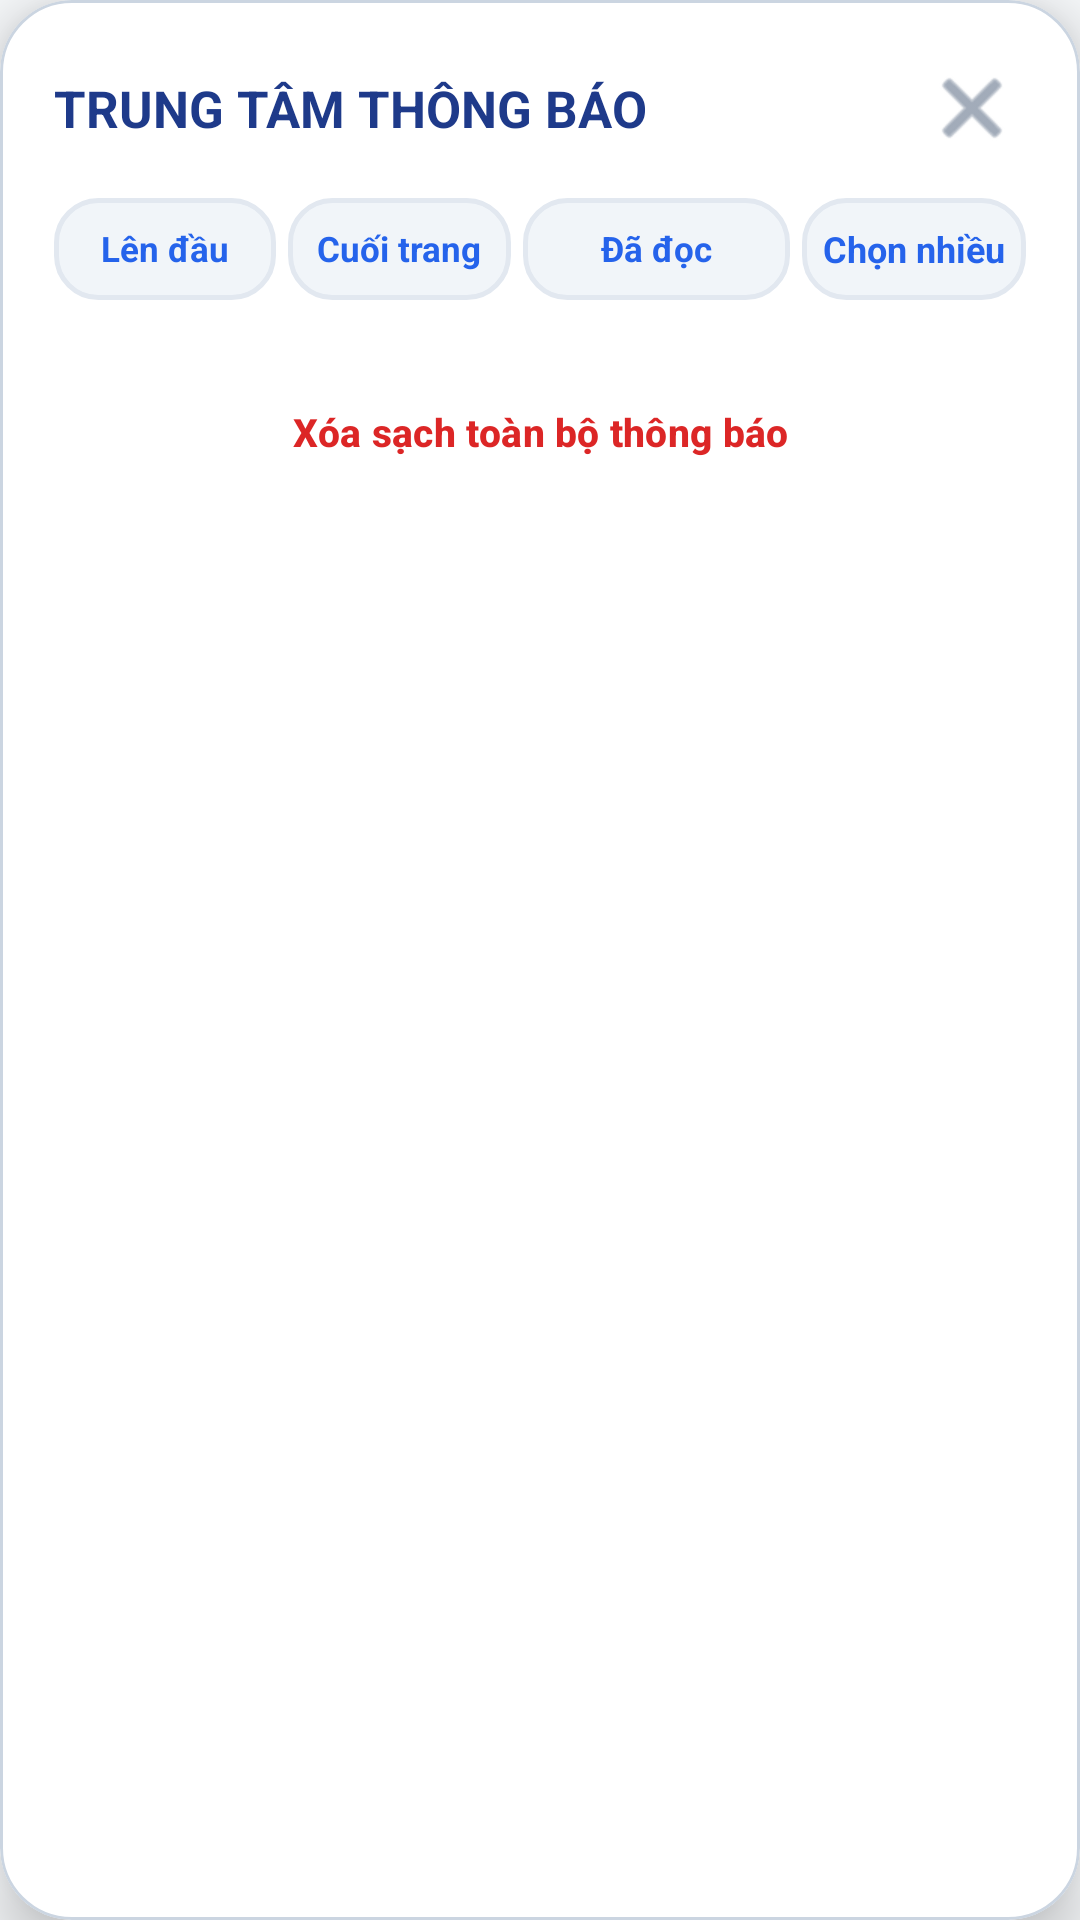

Where icons sit on this 1080*1920 app screen, as bbox(x1, y1, x2, y2):
Đóng: bbox(942, 78, 1002, 138)
